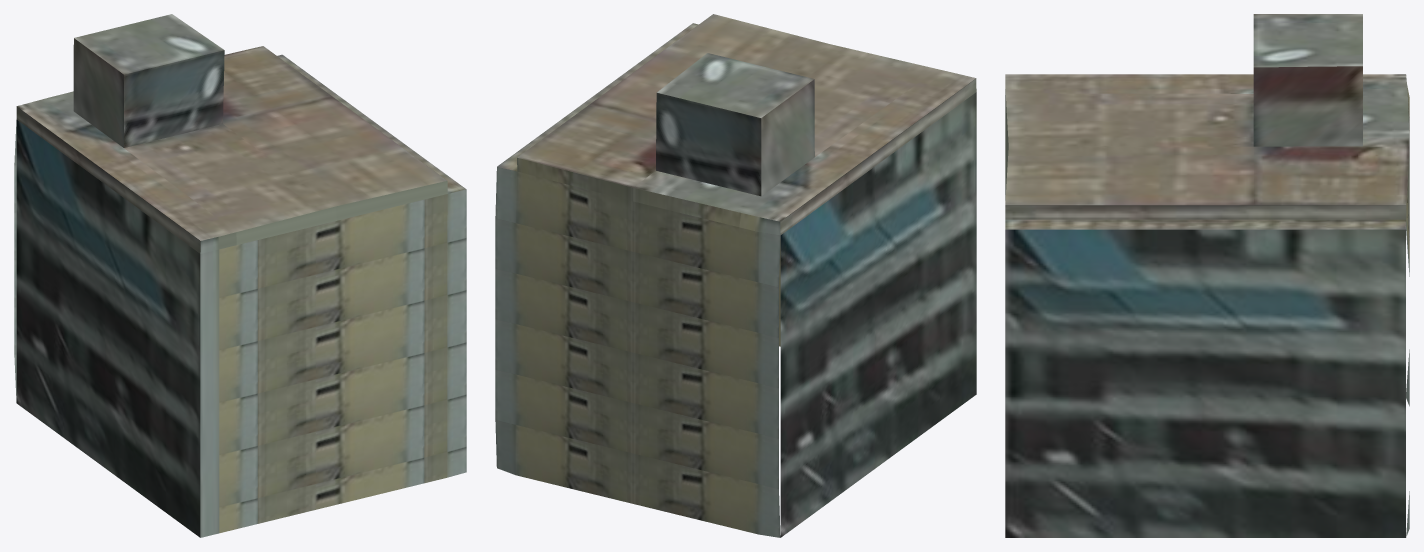
3 renders of one model, left to right at view 1: azimuth 30°, elevation 25°; view 2: azimuth 150°, elevation 25°; view 3: azimuth 270°, elevation 25°, orthographic. The views are drawn at different scales.
Parts seen in each view (by area): view 1: orto-edificio22-completo.052; view 2: orto-edificio22-completo.052; view 3: orto-edificio22-completo.052.
Part boxes in pixels (x1,y1,x2,y2): orto-edificio22-completo.052: [14, 14, 466, 537]; orto-edificio22-completo.052: [495, 14, 976, 537]; orto-edificio22-completo.052: [1005, 14, 1409, 537].
Size of the model in its own units: 2.05 by 2.72 by 2.48.
3 materials, 3 textured.
